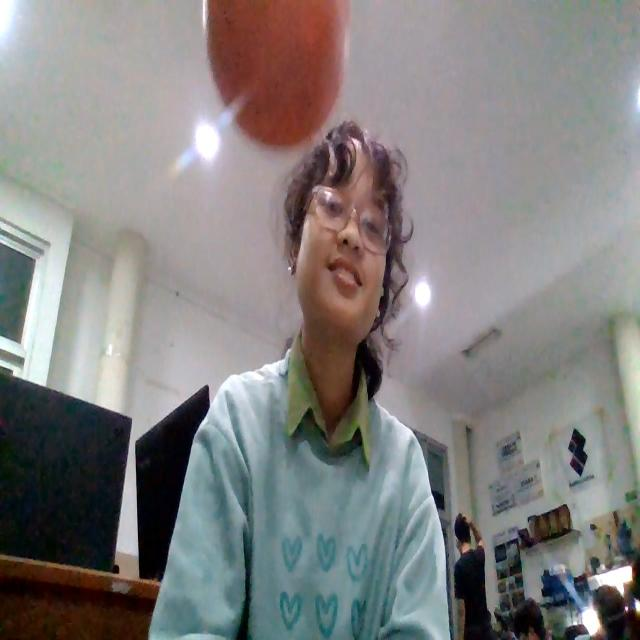ball: (206, 0, 346, 135)
